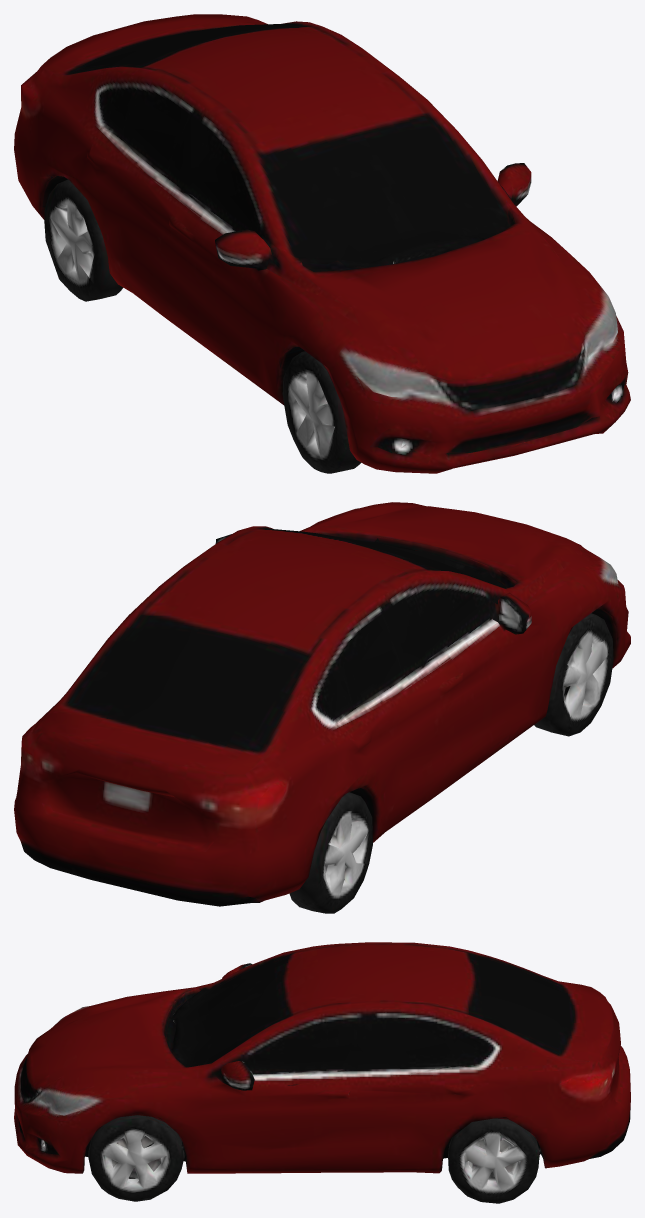
The model's file is sedan_red.glb.
The picture shows the model from 3 angles, top to bottom: view 1: azimuth 30°, elevation 25°; view 2: azimuth 150°, elevation 25°; view 3: azimuth 270°, elevation 25°; orthographic projection. The views are drawn at different scales.
Parts seen in each view (by area): view 1: sedan_red; view 2: sedan_red; view 3: sedan_red.
Part boxes in pixels (<box>): sedan_red: <box>14,14,630,473</box>; sedan_red: <box>14,502,630,913</box>; sedan_red: <box>14,942,630,1203</box>.
Bounding box in the file's own units: 2.1 × 1.62 × 4.82.
Materials: 1 (1 with a texture image).
